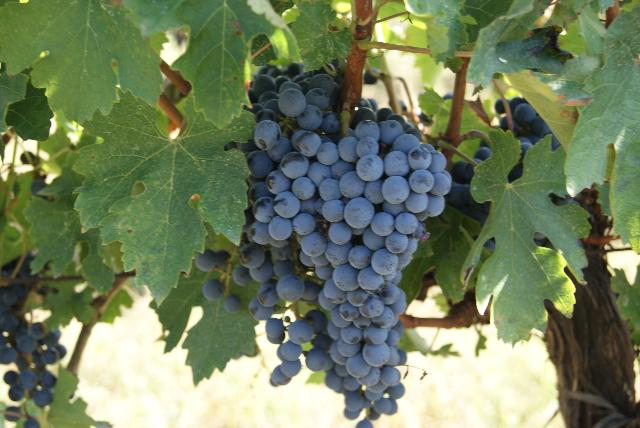grapes: (248, 120, 451, 412)
